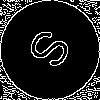S: (25, 25, 82, 78)
